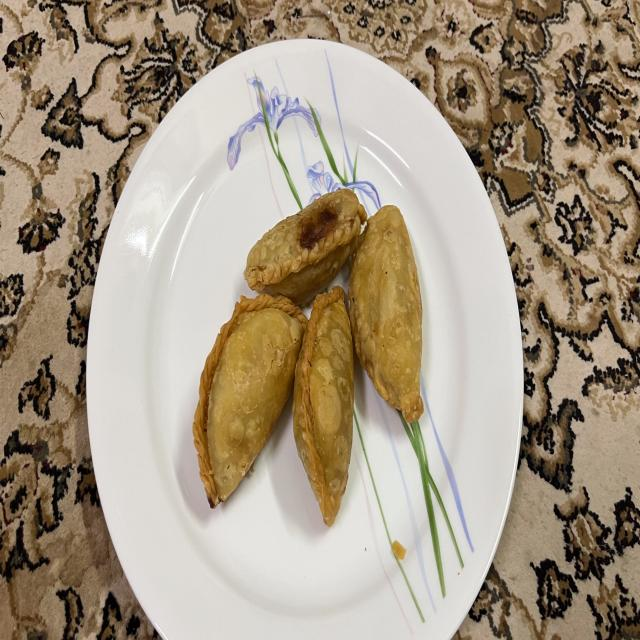karipap: (192, 293, 308, 507), (349, 204, 424, 422), (292, 287, 354, 527), (244, 189, 368, 304)
